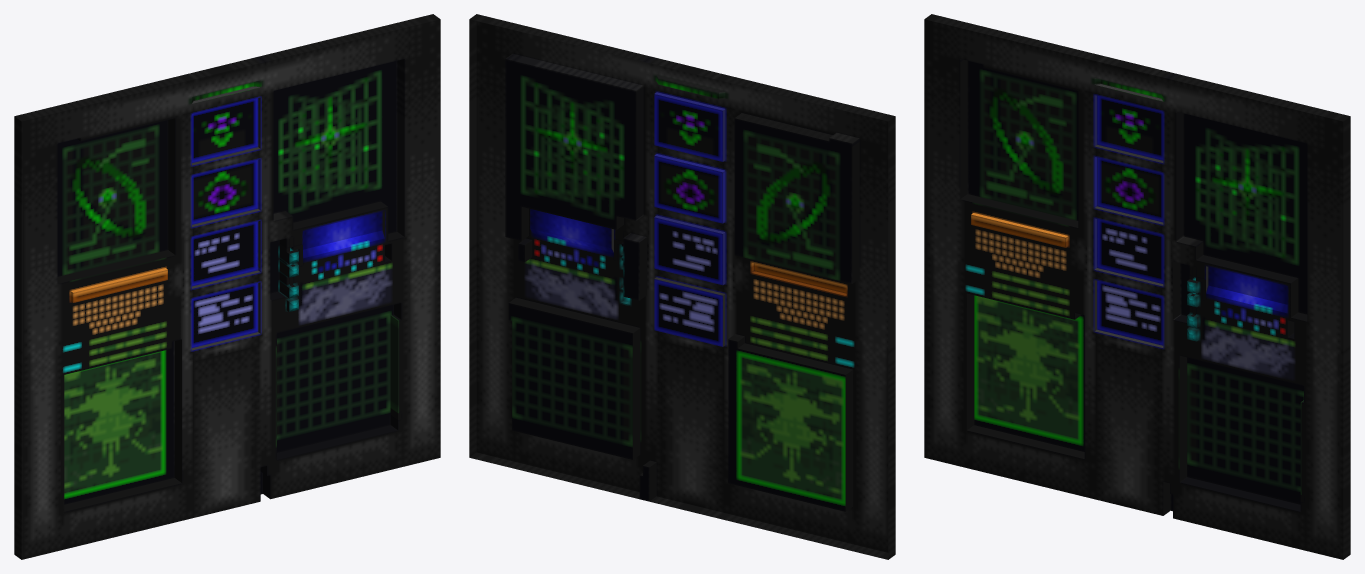
File: bridg2_3.fbx
3 renders of one model, left to right at view 1: azimuth 30°, elevation 25°; view 2: azimuth 150°, elevation 25°; view 3: azimuth 330°, elevation 25°, orthographic.
Visible parts, largest first — view 1: bridg2_3; view 2: bridg2_3; view 3: bridg2_3.
Part boxes in pixels (<box>): bridg2_3: <box>14,14,440,559</box>; bridg2_3: <box>469,14,895,559</box>; bridg2_3: <box>924,14,1350,559</box>.
Size of the model in its own units: 256 by 256 by 11.27.
